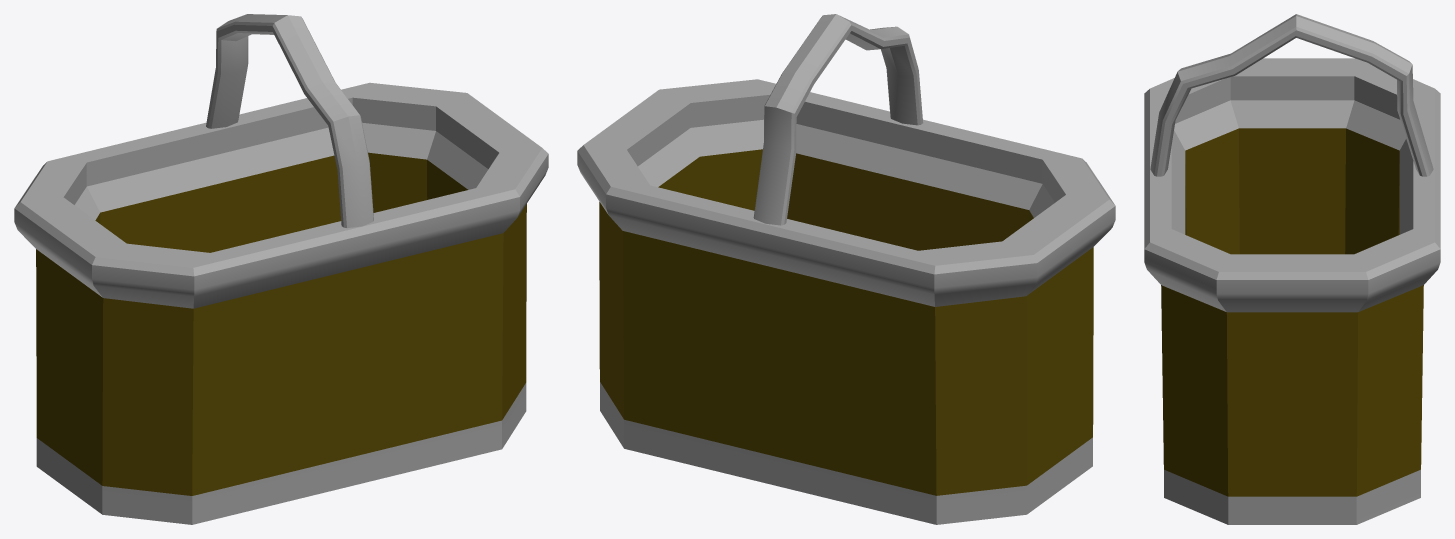
Rendered from opennedpicknicBasket.fbx.
The picture shows the model from 3 angles, left to right: view 1: azimuth 30°, elevation 25°; view 2: azimuth 150°, elevation 25°; view 3: azimuth 270°, elevation 25°; orthographic projection. The views are drawn at different scales.
Parts seen in each view (by area): view 1: pCube73; view 2: pCube73; view 3: pCube73.
Boxes of the visible parts, x1,y1,x2,y2 form: pCube73: (14, 14, 548, 524); pCube73: (577, 14, 1115, 524); pCube73: (1144, 14, 1440, 524).
Size of the model in its own units: 86.75 by 76.35 by 49.8.
